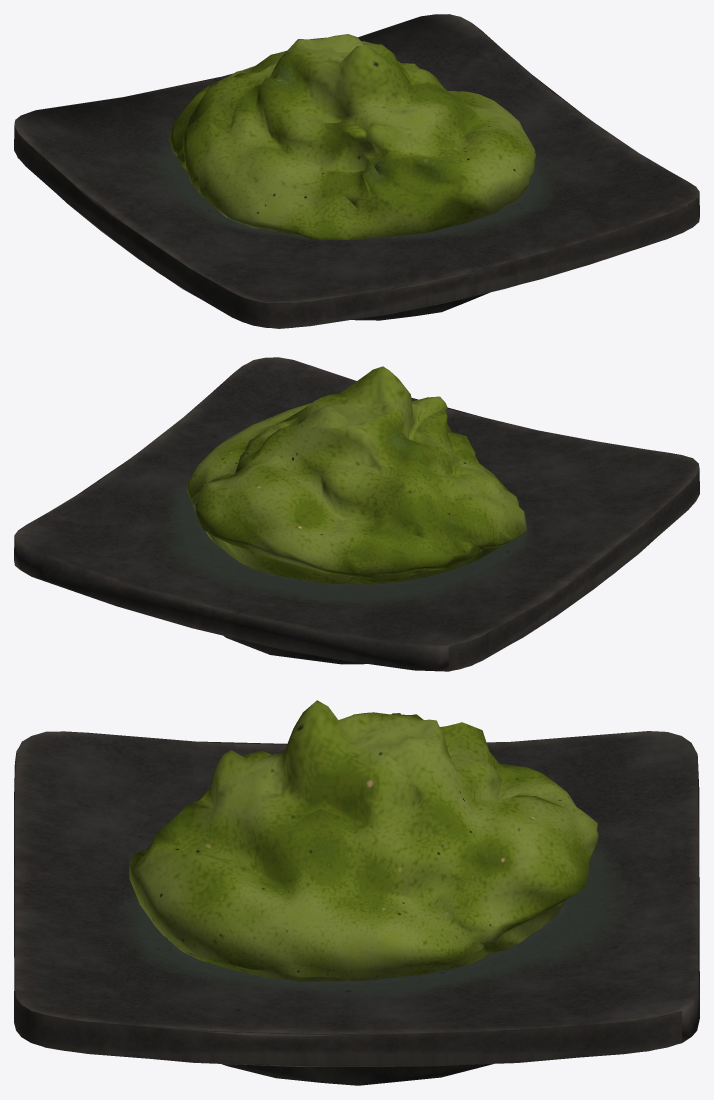
Rendered from wasabi.glb.
3 views of the same model, one above another, from view 1: azimuth 30°, elevation 25°; view 2: azimuth 150°, elevation 25°; view 3: azimuth 270°, elevation 25° (orthographic). The views are drawn at different scales.
Parts seen in each view (by area): view 1: defaultMaterial; view 2: defaultMaterial; view 3: defaultMaterial.
Part boxes in pixels (x1=…): defaultMaterial: x1=14, y1=14, x2=699, y2=328; defaultMaterial: x1=14, y1=357, x2=699, y2=671; defaultMaterial: x1=14, y1=700, x2=699, y2=1085.
Size of the model in its own units: 18.22 by 8.4 by 18.24.
1 material, 1 textured.
